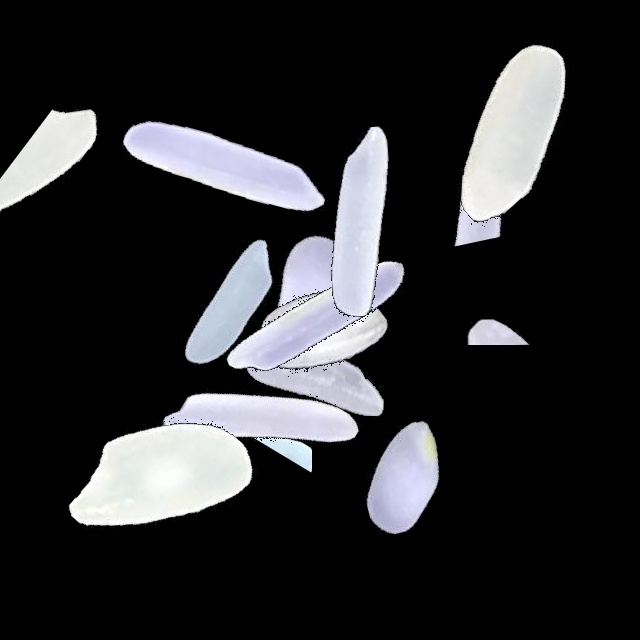Broken: (395, 54, 523, 304), (0, 72, 120, 322), (389, 245, 639, 345), (213, 260, 312, 510)
Full: (189, 255, 439, 505), (192, 171, 442, 421), (194, 204, 444, 454), (135, 299, 385, 549), (190, 193, 440, 443), (387, 6, 637, 256), (236, 98, 486, 348), (102, 180, 352, 430), (35, 356, 285, 606), (276, 355, 526, 605), (99, 38, 349, 288)
